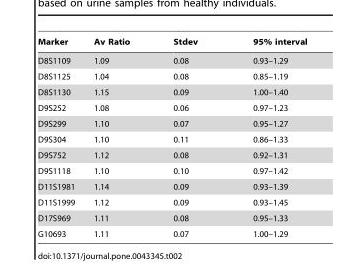table: (37, 37, 306, 238)
table column: (224, 37, 306, 238), (150, 37, 224, 238), (83, 37, 150, 238), (37, 37, 83, 238)
table column header: (37, 37, 306, 51)
table row: (37, 51, 306, 68), (37, 68, 306, 84), (37, 99, 306, 115), (37, 115, 306, 131), (37, 131, 306, 147), (37, 162, 306, 178), (37, 178, 306, 194), (37, 194, 306, 210), (37, 84, 306, 99), (37, 147, 306, 162), (37, 210, 306, 225), (37, 37, 306, 51), (37, 225, 306, 238)
